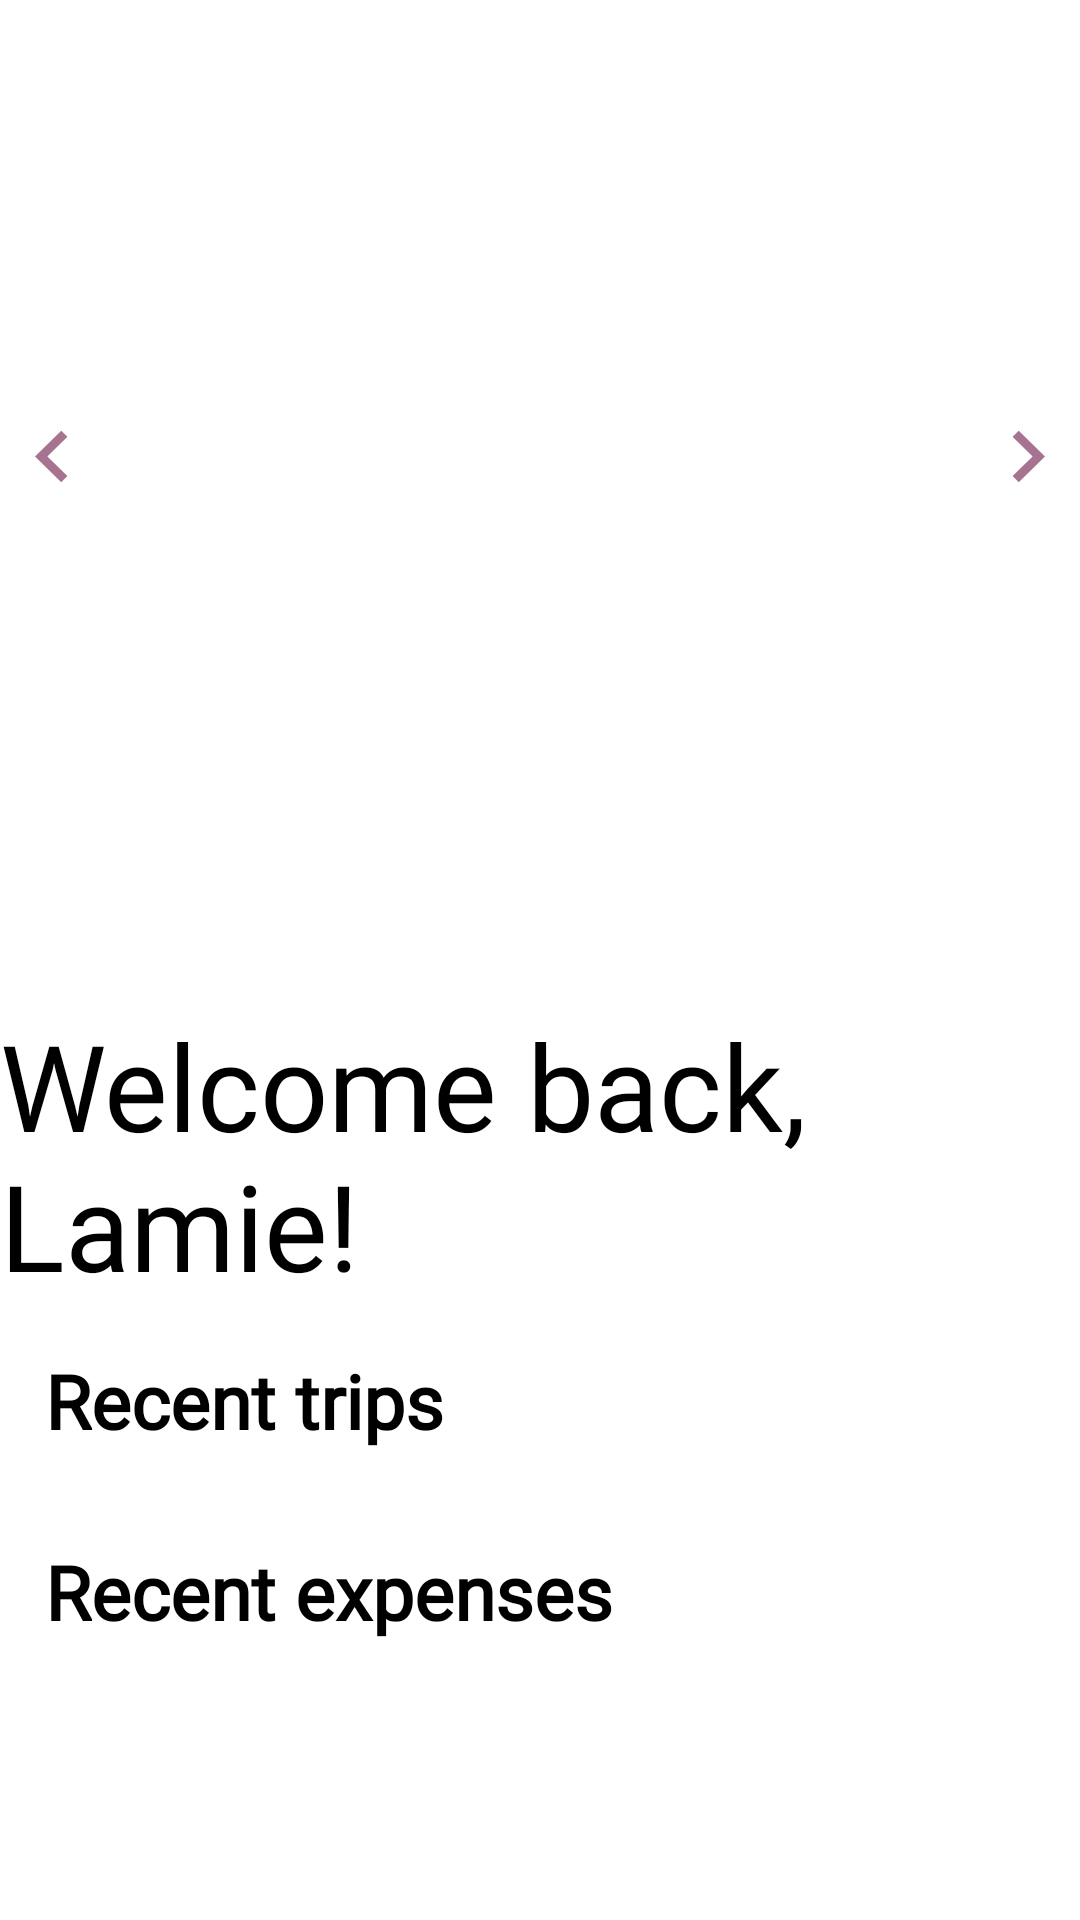

Screen size 1080w x 1920h. Icon name, then its box in pixels as (x1,y1,x2,y2):
next: (1013,431,1045,482)
prev: (35,431,67,482)
